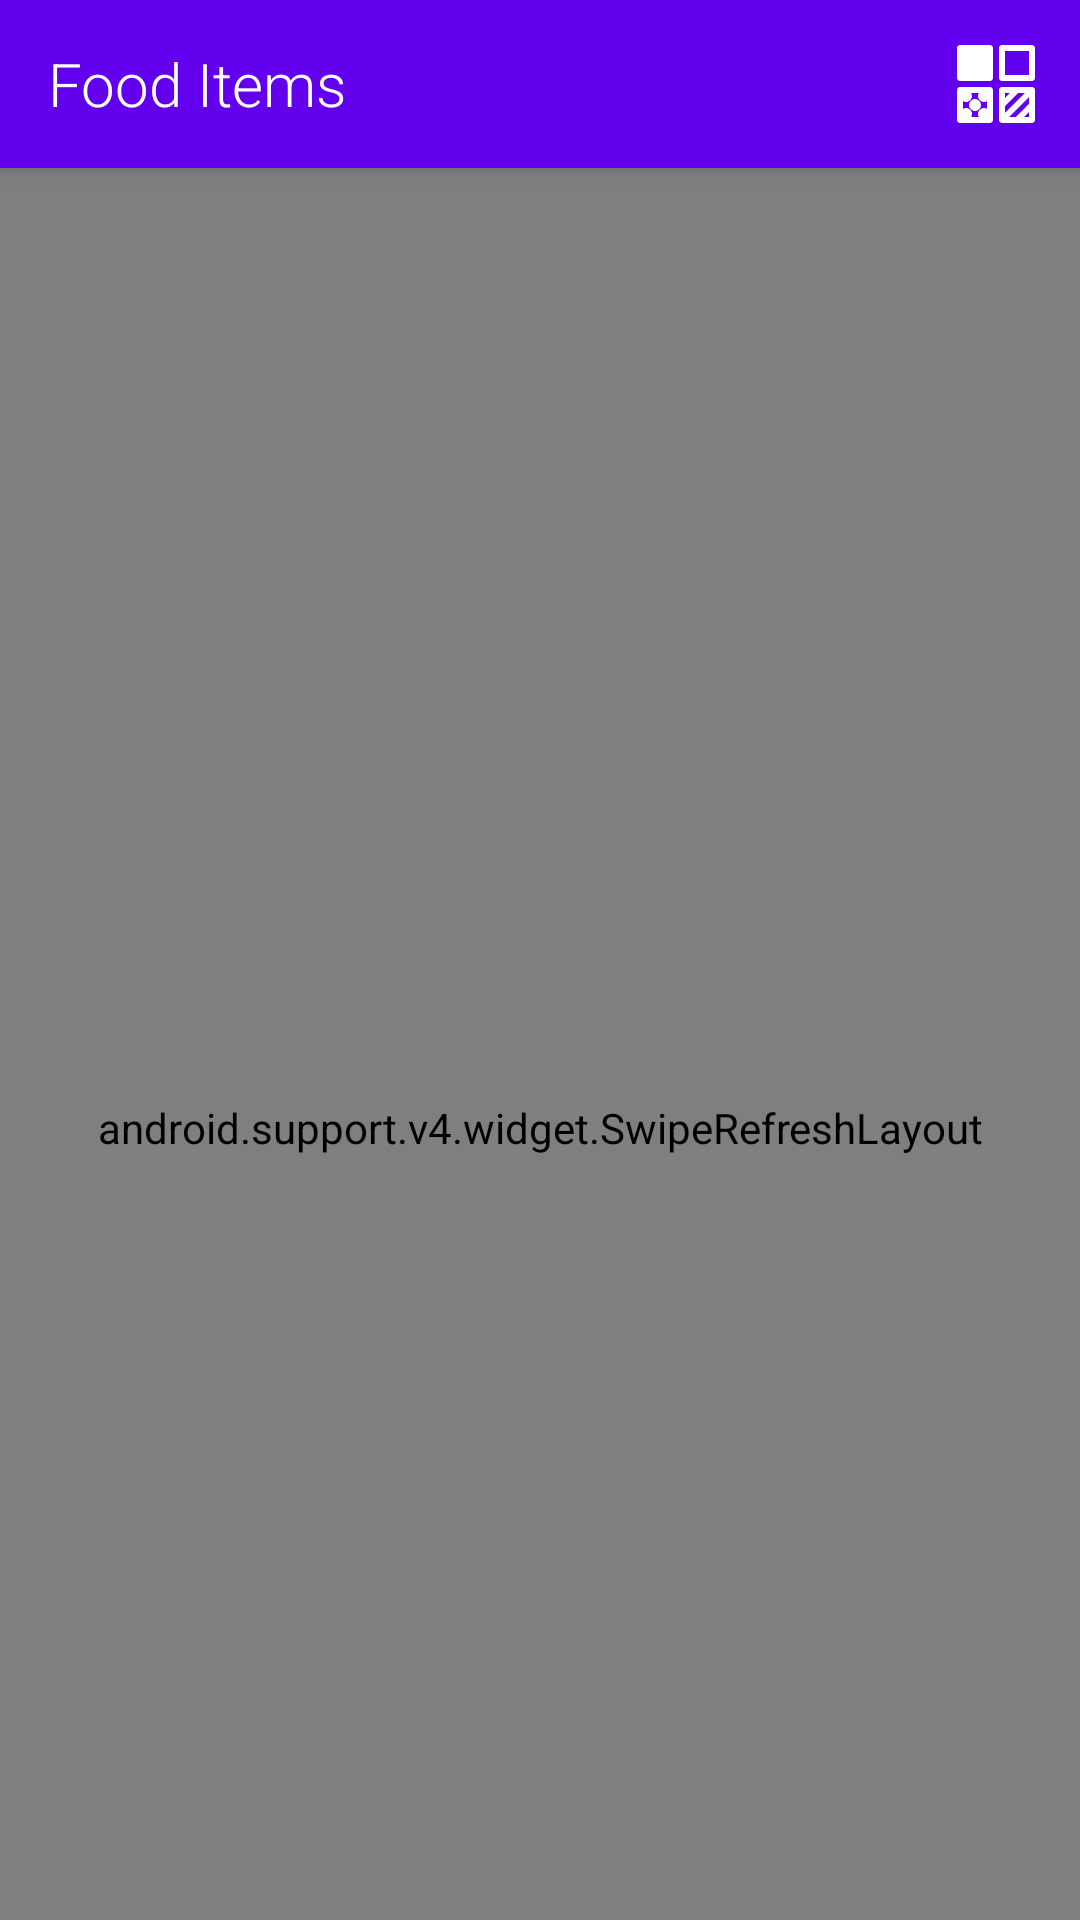

Icons on this 1080px×1920px Android screen, each with the point to tap as point (x, y):
categories: point (996, 84)
